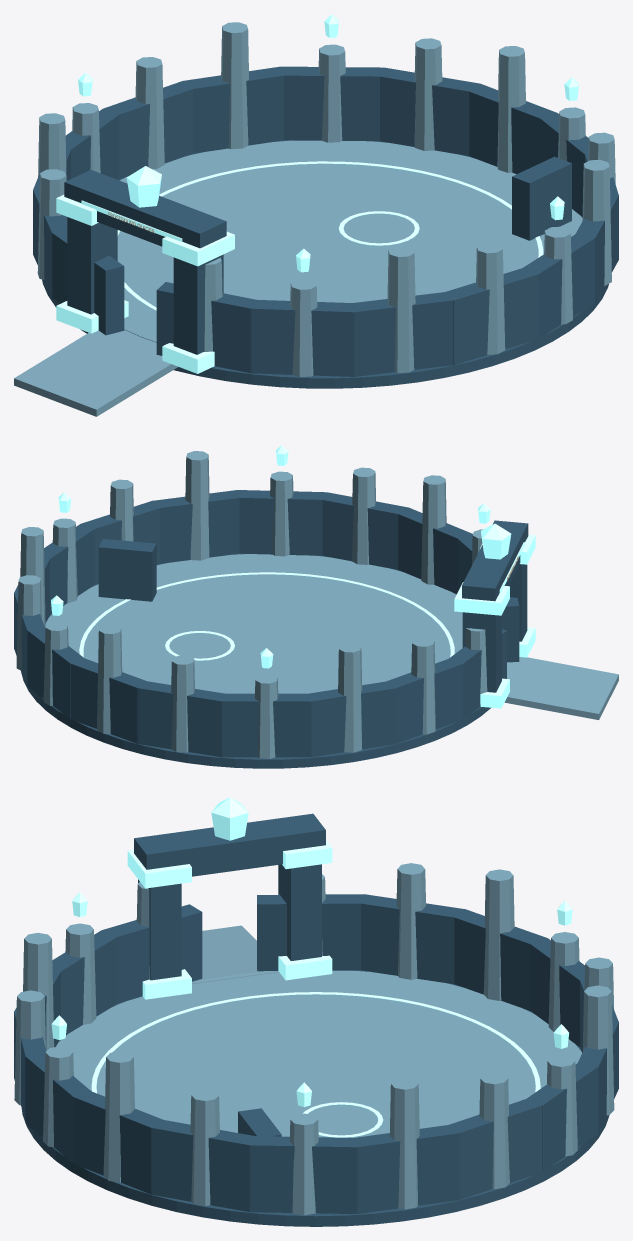
File: Arena_FrostboundGlacier.glb
3 views of the same model, one above another, from view 1: azimuth 30°, elevation 25°; view 2: azimuth 150°, elevation 25°; view 3: azimuth 270°, elevation 25° (orthographic). The views are drawn at different scales.
Parts seen in each view (by area): view 1: Arena_FrostboundGlacier_FrostboundGlacier_stone_4_1, Arena_FrostboundGlacier_FrostboundGlacier_dark_4_1, Arena_FrostboundGlacier_FrostboundGlacier_dark_5_1, Arena_FrostboundGlacier_FrostboundGlacier_accent_4_1, Arena_FrostboundGlacier_FrostboundGlacier_stone_5_1; view 2: Arena_FrostboundGlacier_FrostboundGlacier_stone_4_1, Arena_FrostboundGlacier_FrostboundGlacier_dark_4_1, Arena_FrostboundGlacier_FrostboundGlacier_dark_5_1, Arena_FrostboundGlacier_FrostboundGlacier_accent_4_1, Arena_FrostboundGlacier_FrostboundGlacier_stone_5_1; view 3: Arena_FrostboundGlacier_FrostboundGlacier_stone_4_1, Arena_FrostboundGlacier_FrostboundGlacier_dark_4_1, Arena_FrostboundGlacier_FrostboundGlacier_dark_5_1, Arena_FrostboundGlacier_FrostboundGlacier_stone_5_1, Arena_FrostboundGlacier_FrostboundGlacier_accent_4_1.
Part boxes in pixels (x1=…): Arena_FrostboundGlacier_FrostboundGlacier_stone_4_1: x1=14, y1=22, x2=611, y2=416; Arena_FrostboundGlacier_FrostboundGlacier_dark_4_1: x1=33, y1=66, x2=618, y2=388; Arena_FrostboundGlacier_FrostboundGlacier_dark_5_1: x1=377, y1=67, x2=618, y2=259; Arena_FrostboundGlacier_FrostboundGlacier_accent_4_1: x1=56, y1=14, x2=564, y2=373; Arena_FrostboundGlacier_FrostboundGlacier_stone_5_1: x1=414, y1=38, x2=615, y2=183; Arena_FrostboundGlacier_FrostboundGlacier_stone_4_1: x1=43, y1=451, x2=618, y2=758; Arena_FrostboundGlacier_FrostboundGlacier_dark_4_1: x1=21, y1=490, x2=528, y2=768; Arena_FrostboundGlacier_FrostboundGlacier_dark_5_1: x1=14, y1=501, x2=161, y2=685; Arena_FrostboundGlacier_FrostboundGlacier_accent_4_1: x1=51, y1=445, x2=535, y2=708; Arena_FrostboundGlacier_FrostboundGlacier_stone_5_1: x1=16, y1=479, x2=133, y2=670; Arena_FrostboundGlacier_FrostboundGlacier_stone_4_1: x1=14, y1=863, x2=614, y2=1182; Arena_FrostboundGlacier_FrostboundGlacier_dark_4_1: x1=14, y1=813, x2=618, y2=1226; Arena_FrostboundGlacier_FrostboundGlacier_dark_5_1: x1=151, y1=1098, x2=543, y2=1213; Arena_FrostboundGlacier_FrostboundGlacier_stone_5_1: x1=190, y1=1072, x2=509, y2=1215; Arena_FrostboundGlacier_FrostboundGlacier_accent_4_1: x1=51, y1=797, x2=572, y2=1137.
Bounding box in the file's own units: 87.64 × 26.84 × 73.8.
